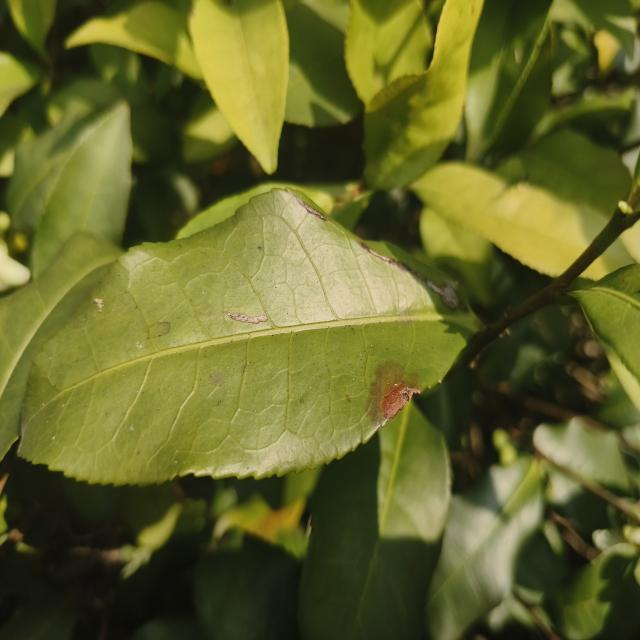Leaf: (19, 189, 475, 484), (299, 404, 451, 640), (0, 233, 121, 460), (364, 0, 483, 190), (413, 162, 607, 276), (427, 456, 542, 640), (189, 0, 289, 174), (32, 103, 132, 274), (465, 0, 551, 159), (7, 111, 110, 230), (533, 418, 631, 535), (65, 0, 202, 79), (518, 131, 631, 214), (345, 0, 433, 103), (570, 265, 640, 380), (548, 548, 631, 640), (581, 241, 632, 279), (85, 202, 93, 206)
